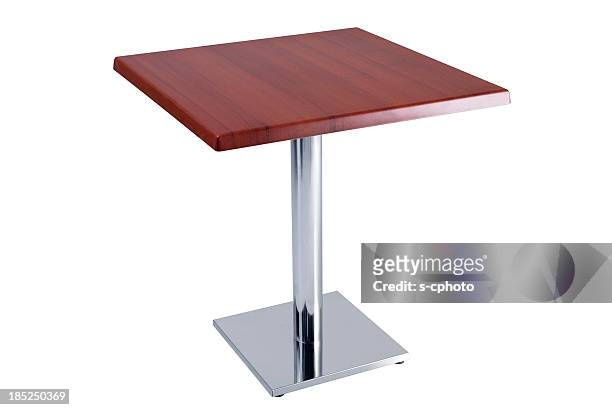obstacle: (114, 28, 509, 395)
